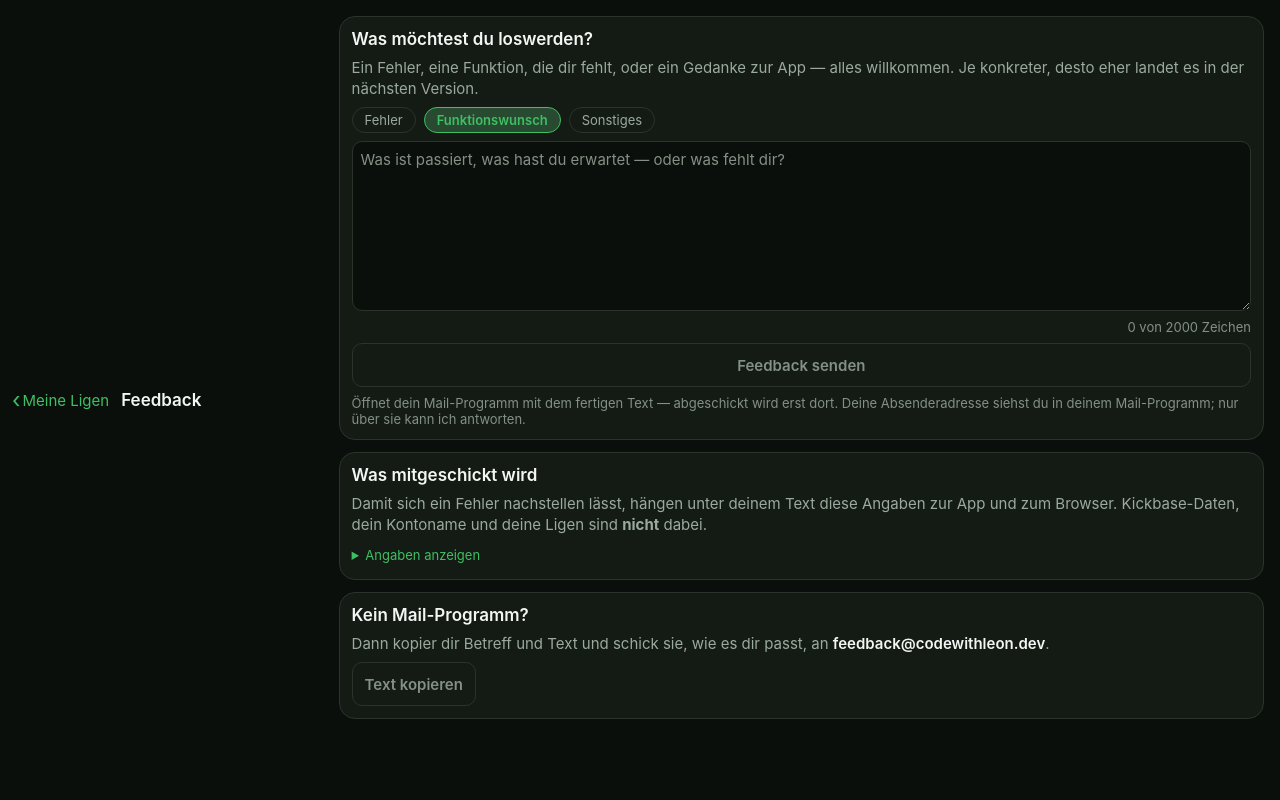
Scenario: FeedbackScreen › räumt das Ergebnis weg, sobald der Text ein anderer ist
Type "Kaputt." into the text box named "Dein Feedback".
click(801, 226); type("Kaputt.")  # box [352,141,1251,311]
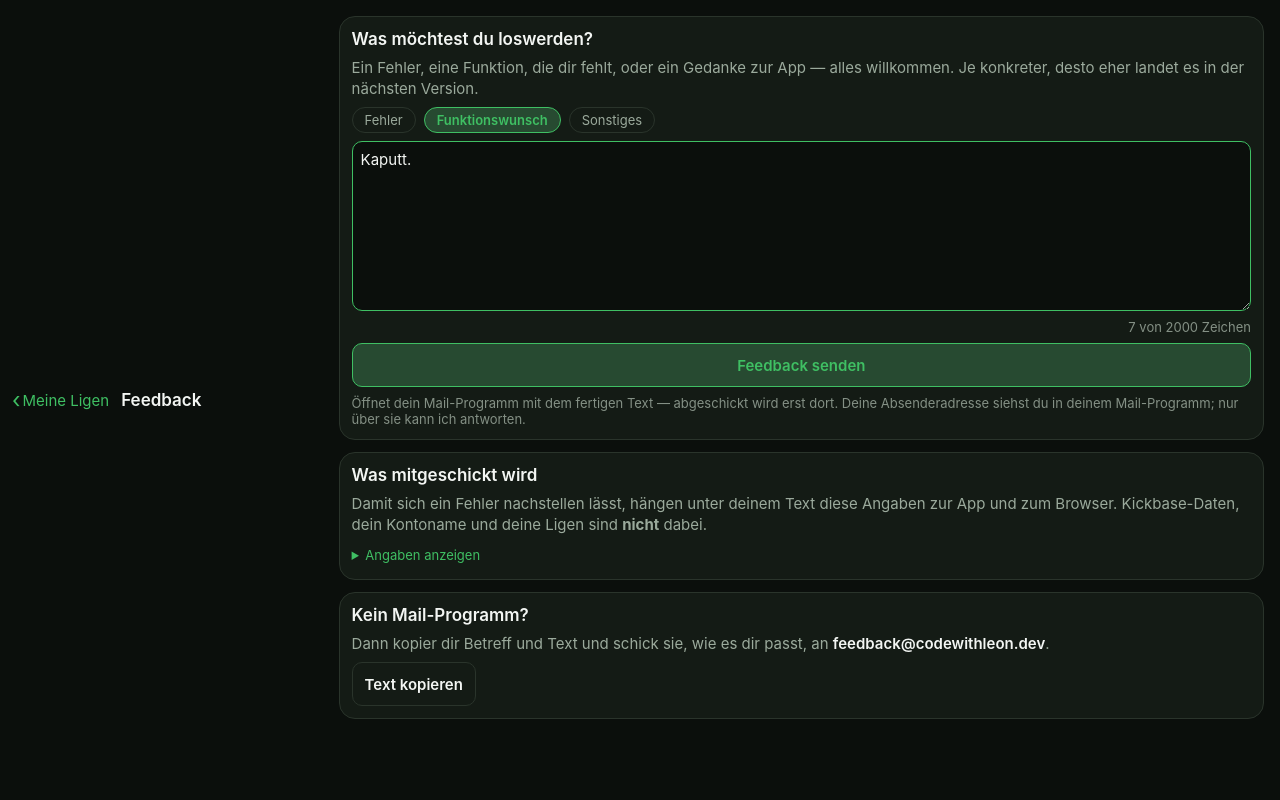
Click the button "Feedback senden".
click(801, 365)  # box [352,343,1251,387]
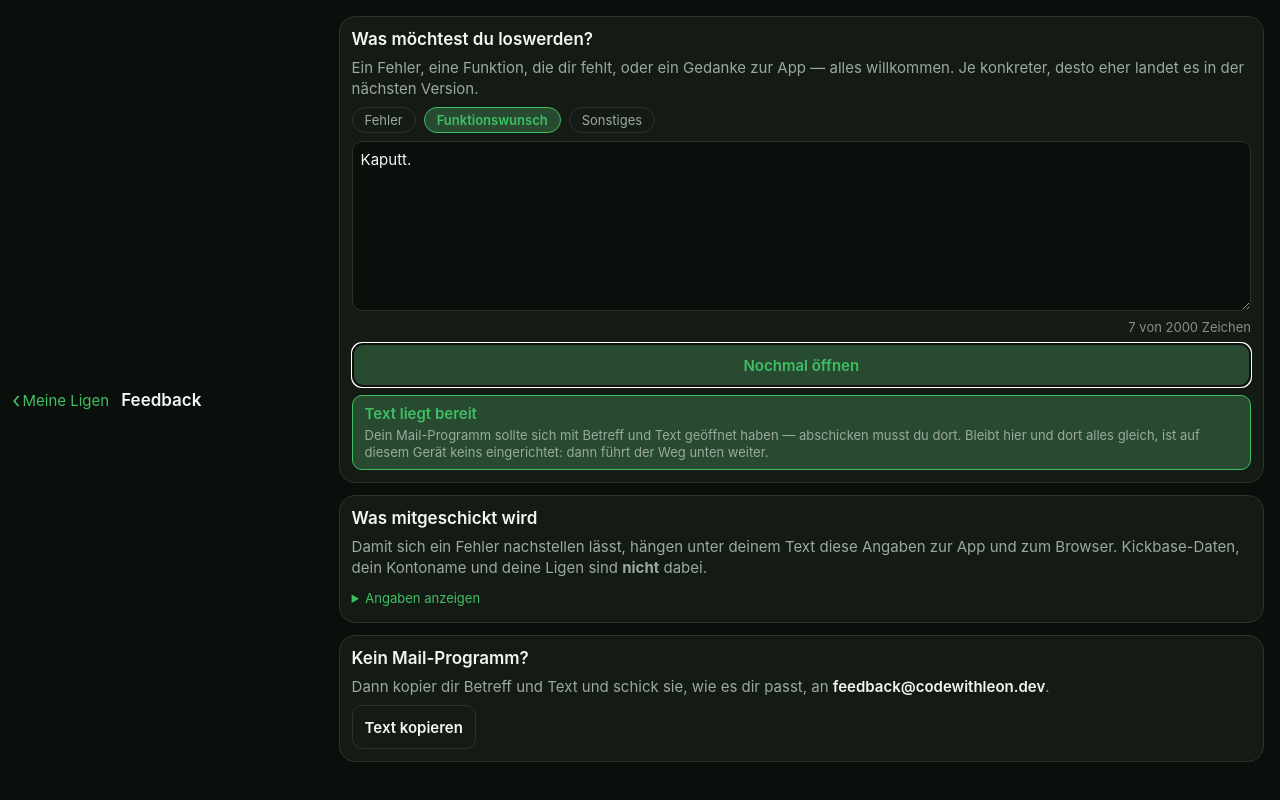
Now the message is shown, box [352,395,1251,470]
Type " Und zwar hier." into the text box named "Dein Feedback".
click(801, 226); type(" Und zwar hier.")  # box [352,141,1251,311]
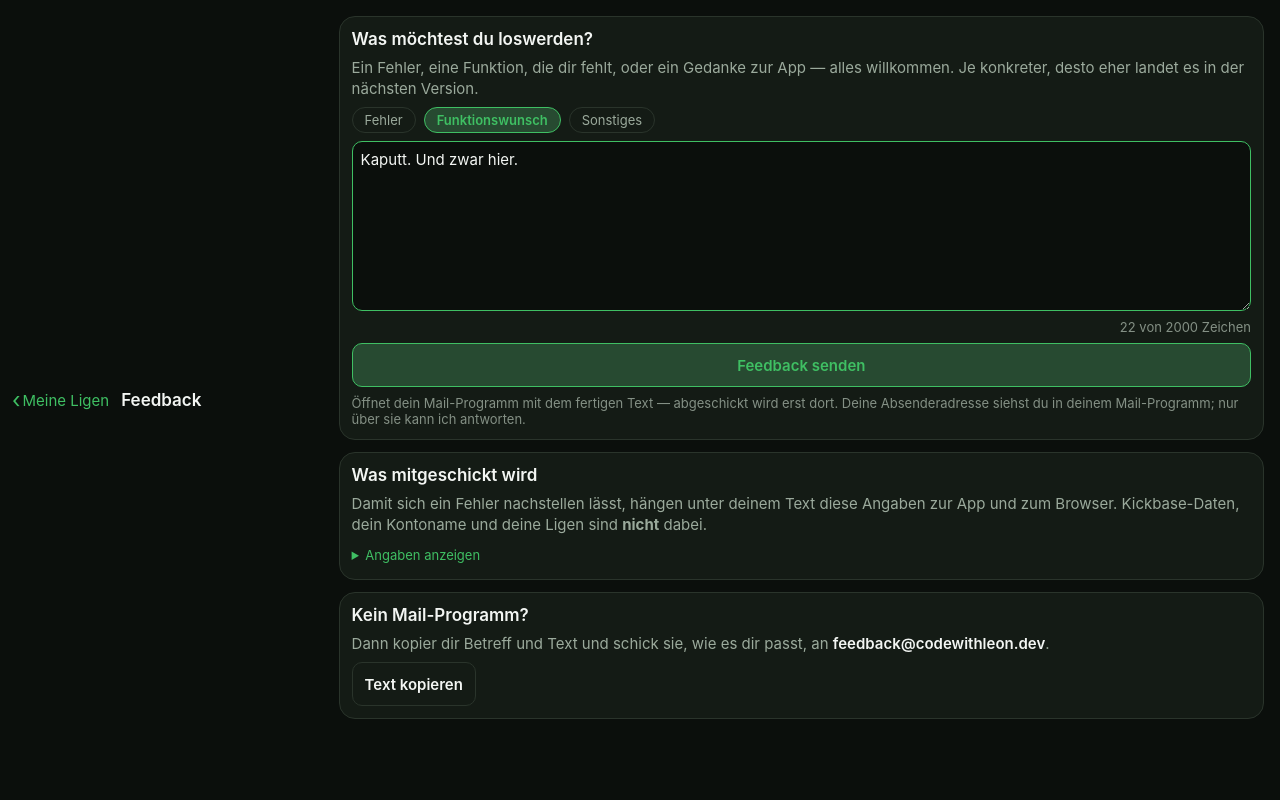
Now the message is gone
Now the button "Feedback senden" is shown, box [352,343,1251,387]
